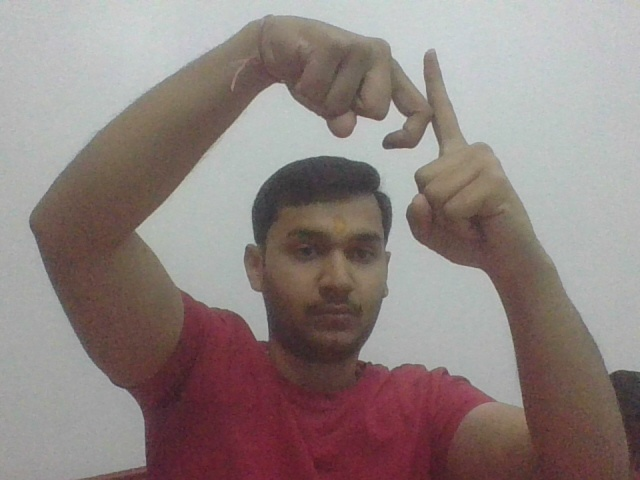K: (360, 35, 506, 165)
